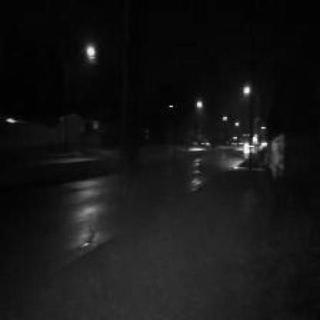other: (227, 127, 277, 149), (83, 40, 103, 70), (224, 112, 246, 128), (239, 80, 257, 98), (196, 93, 212, 111)
